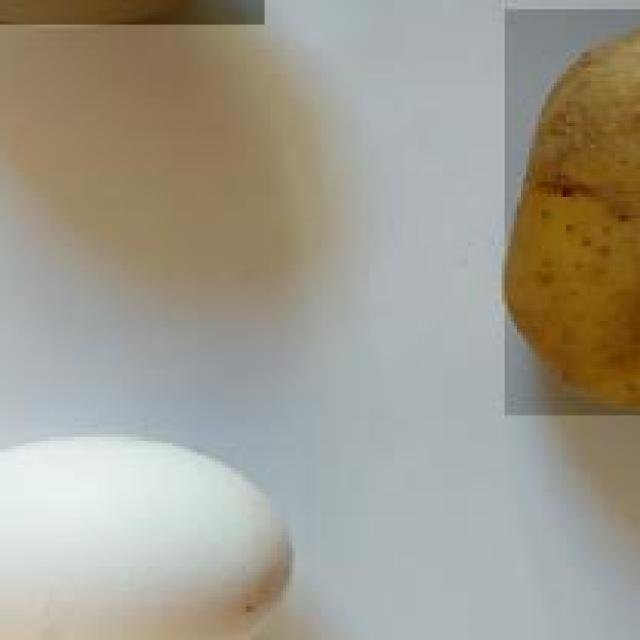egg: (0, 427, 301, 640)
potato: (498, 9, 640, 418)
